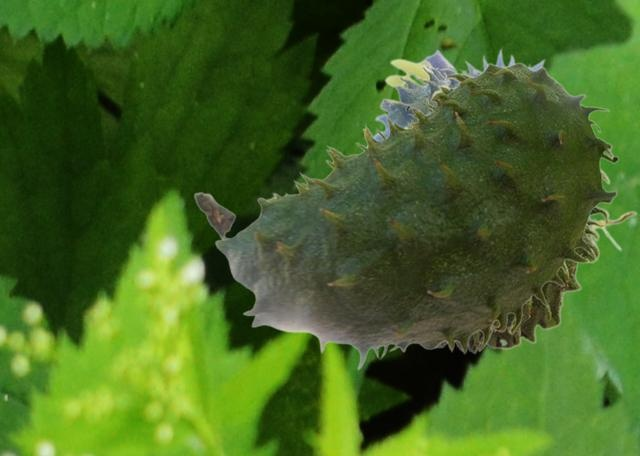guyabano: (193, 62, 618, 370), (373, 46, 637, 354)
